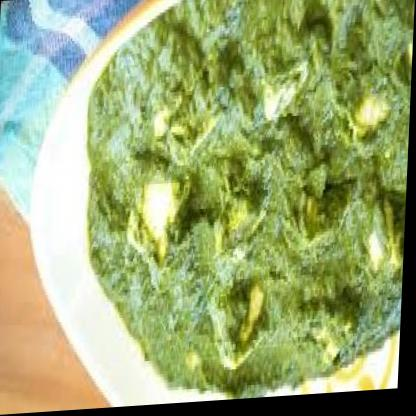palak_paneer: (77, 0, 416, 411)
